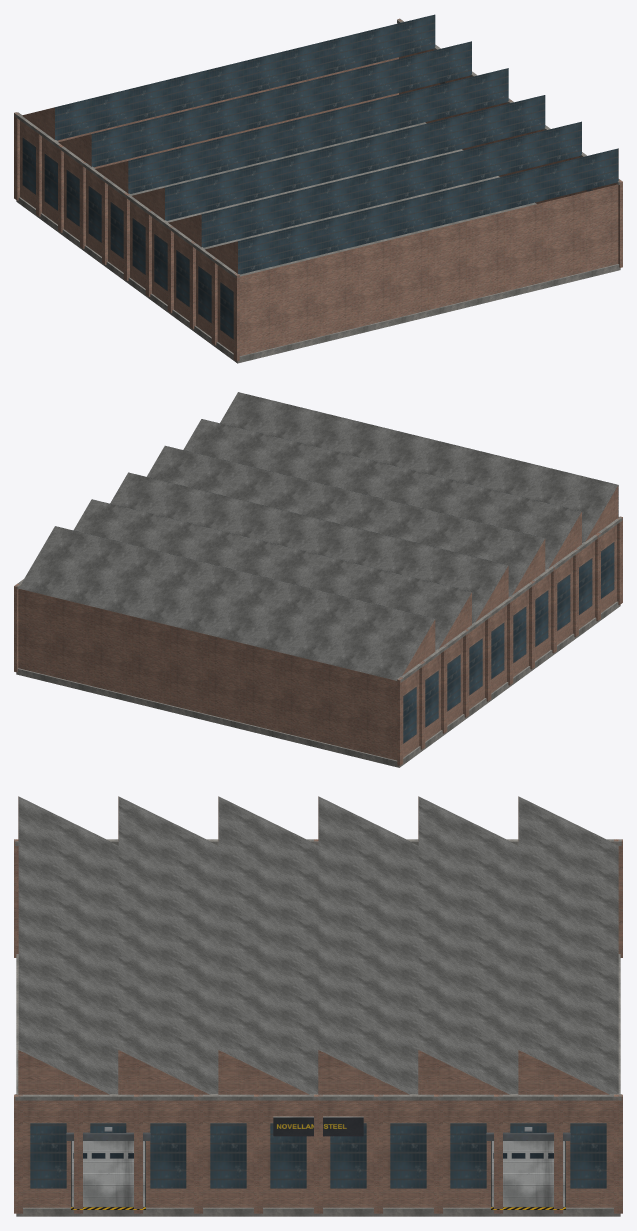
Rendered from wh_saw.glb.
The picture shows the model from 3 angles, top to bottom: view 1: azimuth 30°, elevation 25°; view 2: azimuth 150°, elevation 25°; view 3: azimuth 270°, elevation 25°; orthographic projection. The views are drawn at different scales.
Parts seen in each view (by area): view 1: wh_saw; view 2: wh_saw; view 3: wh_saw.
Boxes of the visible parts, x1,y1,x2,y2 form: wh_saw: (14, 14, 622, 363); wh_saw: (14, 392, 622, 767); wh_saw: (14, 796, 622, 1216).
Bounding box in the file's own units: 40.9 × 12.2 × 40.6.
1 material, 1 textured.
